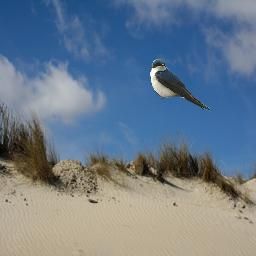Swallow: (150, 59, 210, 111)
